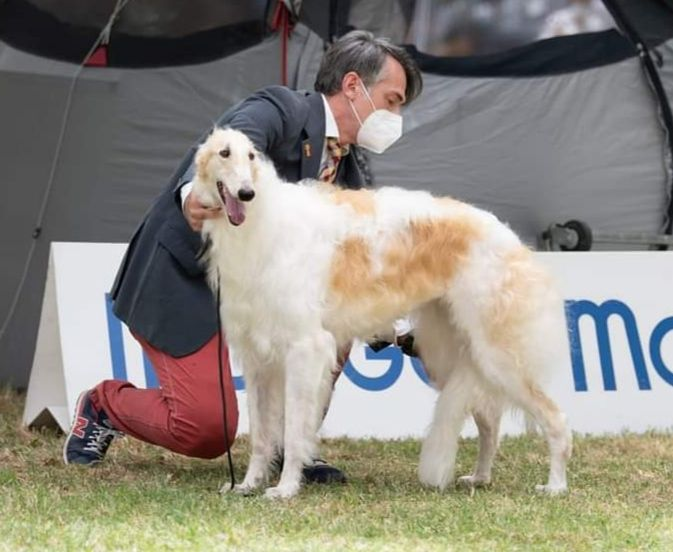borzoi: (173, 129, 587, 503)
